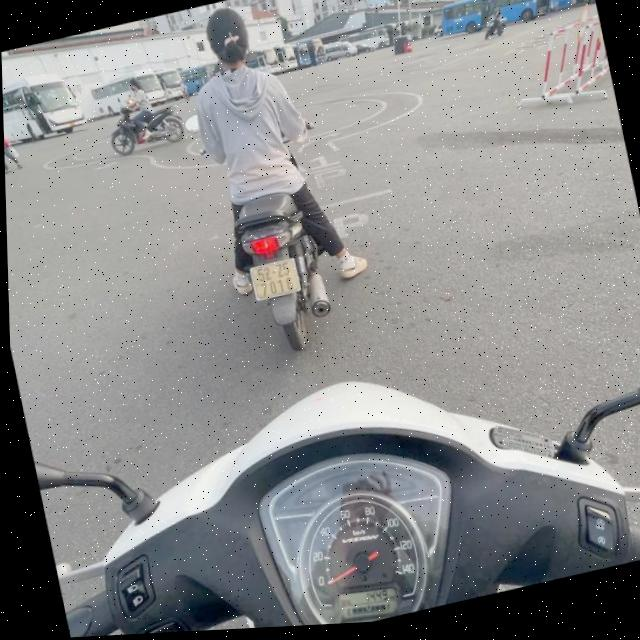motorcycle: (25, 289, 640, 639), (215, 180, 350, 373), (102, 100, 190, 158), (244, 250, 305, 306)
plate: (245, 251, 304, 307)
